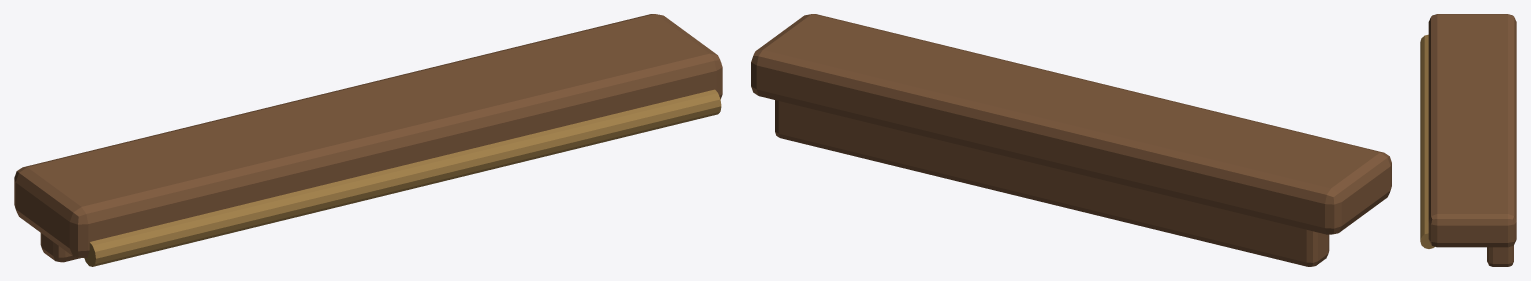
Rendered from window_sill.glb.
The picture shows the model from 3 angles, left to right: view 1: azimuth 30°, elevation 25°; view 2: azimuth 150°, elevation 25°; view 3: azimuth 270°, elevation 25°; orthographic projection. The views are drawn at different scales.
Visible parts, largest first — view 1: SillSlab, SillFrontBead, SillApron; view 2: SillSlab, SillApron; view 3: SillSlab, SillFrontBead, SillApron.
Boxes of the visible parts, <box> form: SillSlab: <box>14,14,722,257</box>; SillFrontBead: <box>84,89,721,266</box>; SillApron: <box>40,233,80,262</box>; SillSlab: <box>751,14,1391,234</box>; SillApron: <box>775,100,1329,266</box>; SillSlab: <box>1428,14,1516,247</box>; SillFrontBead: <box>1420,34,1434,248</box>; SillApron: <box>1487,245,1513,266</box>.
Size of the model in its own units: 1 by 0.135 by 0.197.
